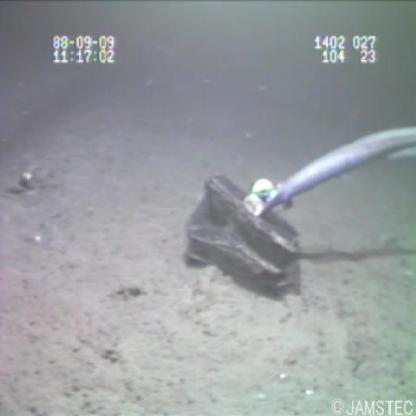Bio: (239, 119, 415, 219)
Rác: (178, 169, 304, 302)
